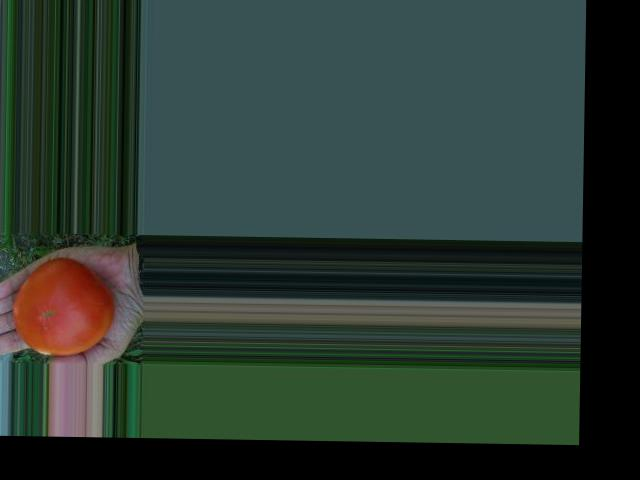tomato: (11, 256, 114, 356)
